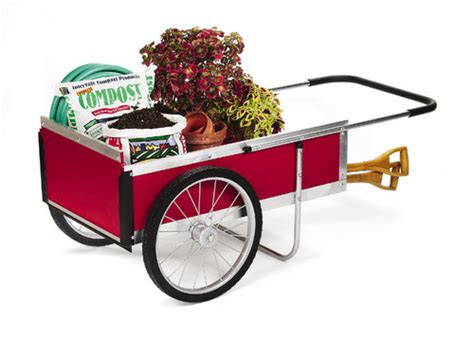Carts: (37, 73, 438, 304)
